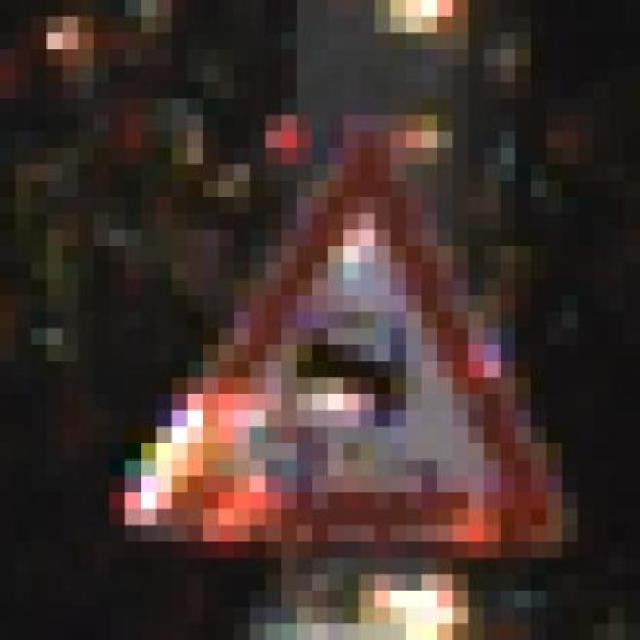Slippery Road Ahead: (93, 98, 578, 574)
